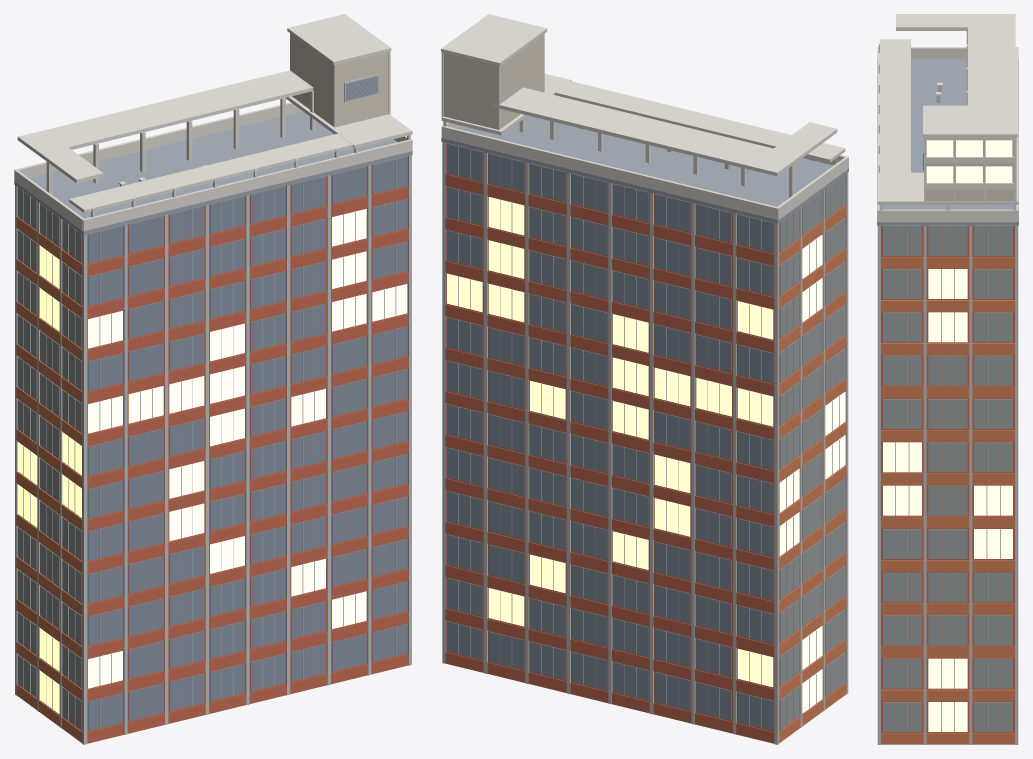
The model's file is minora.glb.
3 renders of one model, left to right at view 1: azimuth 30°, elevation 25°; view 2: azimuth 150°, elevation 25°; view 3: azimuth 270°, elevation 25°, orthographic. The views are drawn at different scales.
Visible parts, largest first — view 1: Main_red_highrise_mass, Roof_terrace_deck, Rear_long_canopy_slab, Right_raised_rooftop_service_room, Front_slim_canopy_slab, Terrace_low_long_parapet, Front_red_floor_ribbon_11, Front_red_floor_ribbon_9, Front_red_floor_ribbon_10, Front_red_floor_ribbon_1, Front_red_floor_ribbon_3, Front_red_floor_ribbon_5 (+35 smaller); view 2: Main_red_highrise_mass, Roof_terrace_deck, Rear_long_canopy_slab, Right_raised_rooftop_service_room, Front_slim_canopy_slab, Terrace_low_long_parapet001, Rear_red_floor_ribbon_0, Rear_red_floor_ribbon_6, Rear_red_floor_ribbon_1, Rear_red_floor_ribbon_5, Rear_red_floor_ribbon_7, Rear_red_floor_ribbon_11 (+36 smaller); view 3: Main_red_highrise_mass, Roof_terrace_deck, Rear_long_canopy_slab, Front_slim_canopy_slab, Service_room_flat_roof, Right_side_full_height_pier001, Right_side_full_height_pier002, Front_full_height_pier_8, Right_roof_low_canopy, Rear_full_height_pier_8, Terrace_low_short_parapet001, Right_raised_rooftop_service_room (+135 smaller).
Part boxes in pixels (x1=…): Main_red_highrise_mass: x1=18, y1=156, x2=407, y2=732; Roof_terrace_deck: x1=14, y1=111, x2=412, y2=234; Rear_long_canopy_slab: x1=17, y1=70, x2=313, y2=156; Right_raised_rooftop_service_room: x1=290, y1=33, x2=388, y2=127; Front_slim_canopy_slab: x1=69, y1=133, x2=353, y2=213; Terrace_low_long_parapet: x1=83, y1=139, x2=412, y2=231; Front_red_floor_ribbon_11: x1=87, y1=186, x2=408, y2=275; Front_red_floor_ribbon_9: x1=87, y1=271, x2=408, y2=360; Front_red_floor_ribbon_10: x1=87, y1=229, x2=408, y2=318; Front_red_floor_ribbon_1: x1=87, y1=611, x2=408, y2=701; Front_red_floor_ribbon_3: x1=87, y1=526, x2=408, y2=615; Front_red_floor_ribbon_5: x1=87, y1=441, x2=408, y2=530; Main_red_highrise_mass: x1=446, y1=143, x2=844, y2=731; Roof_terrace_deck: x1=441, y1=115, x2=848, y2=223; Rear_long_canopy_slab: x1=492, y1=87, x2=801, y2=176; Right_raised_rooftop_service_room: x1=444, y1=34, x2=544, y2=129; Front_slim_canopy_slab: x1=555, y1=81, x2=845, y2=162; Terrace_low_long_parapet001: x1=441, y1=126, x2=778, y2=219; Rear_red_floor_ribbon_0: x1=445, y1=652, x2=774, y2=743; Rear_red_floor_ribbon_6: x1=445, y1=391, x2=774, y2=482; Rear_red_floor_ribbon_1: x1=445, y1=608, x2=774, y2=699; Rear_red_floor_ribbon_5: x1=445, y1=435, x2=774, y2=526; Rear_red_floor_ribbon_7: x1=445, y1=348, x2=774, y2=439; Rear_red_floor_ribbon_11: x1=445, y1=174, x2=774, y2=265; Main_red_highrise_mass: x1=881, y1=225, x2=1014, y2=732; Roof_terrace_deck: x1=877, y1=58, x2=1018, y2=225; Rear_long_canopy_slab: x1=968, y1=14, x2=1015, y2=105; Front_slim_canopy_slab: x1=880, y1=39, x2=910, y2=172; Service_room_flat_roof: x1=923, y1=105, x2=1017, y2=137; Right_side_full_height_pier001: x1=923, y1=225, x2=926, y2=744; Right_side_full_height_pier002: x1=969, y1=225, x2=972, y2=744; Front_full_height_pier_8: x1=877, y1=225, x2=880, y2=744; Right_roof_low_canopy: x1=877, y1=172, x2=1018, y2=204; Rear_full_height_pier_8: x1=1015, y1=225, x2=1018, y2=744; Terrace_low_short_parapet001: x1=879, y1=209, x2=1016, y2=222; Right_raised_rooftop_service_room: x1=926, y1=141, x2=1014, y2=201.
Bounding box in the file's own units: 24.4 × 42.37 × 8.9.
